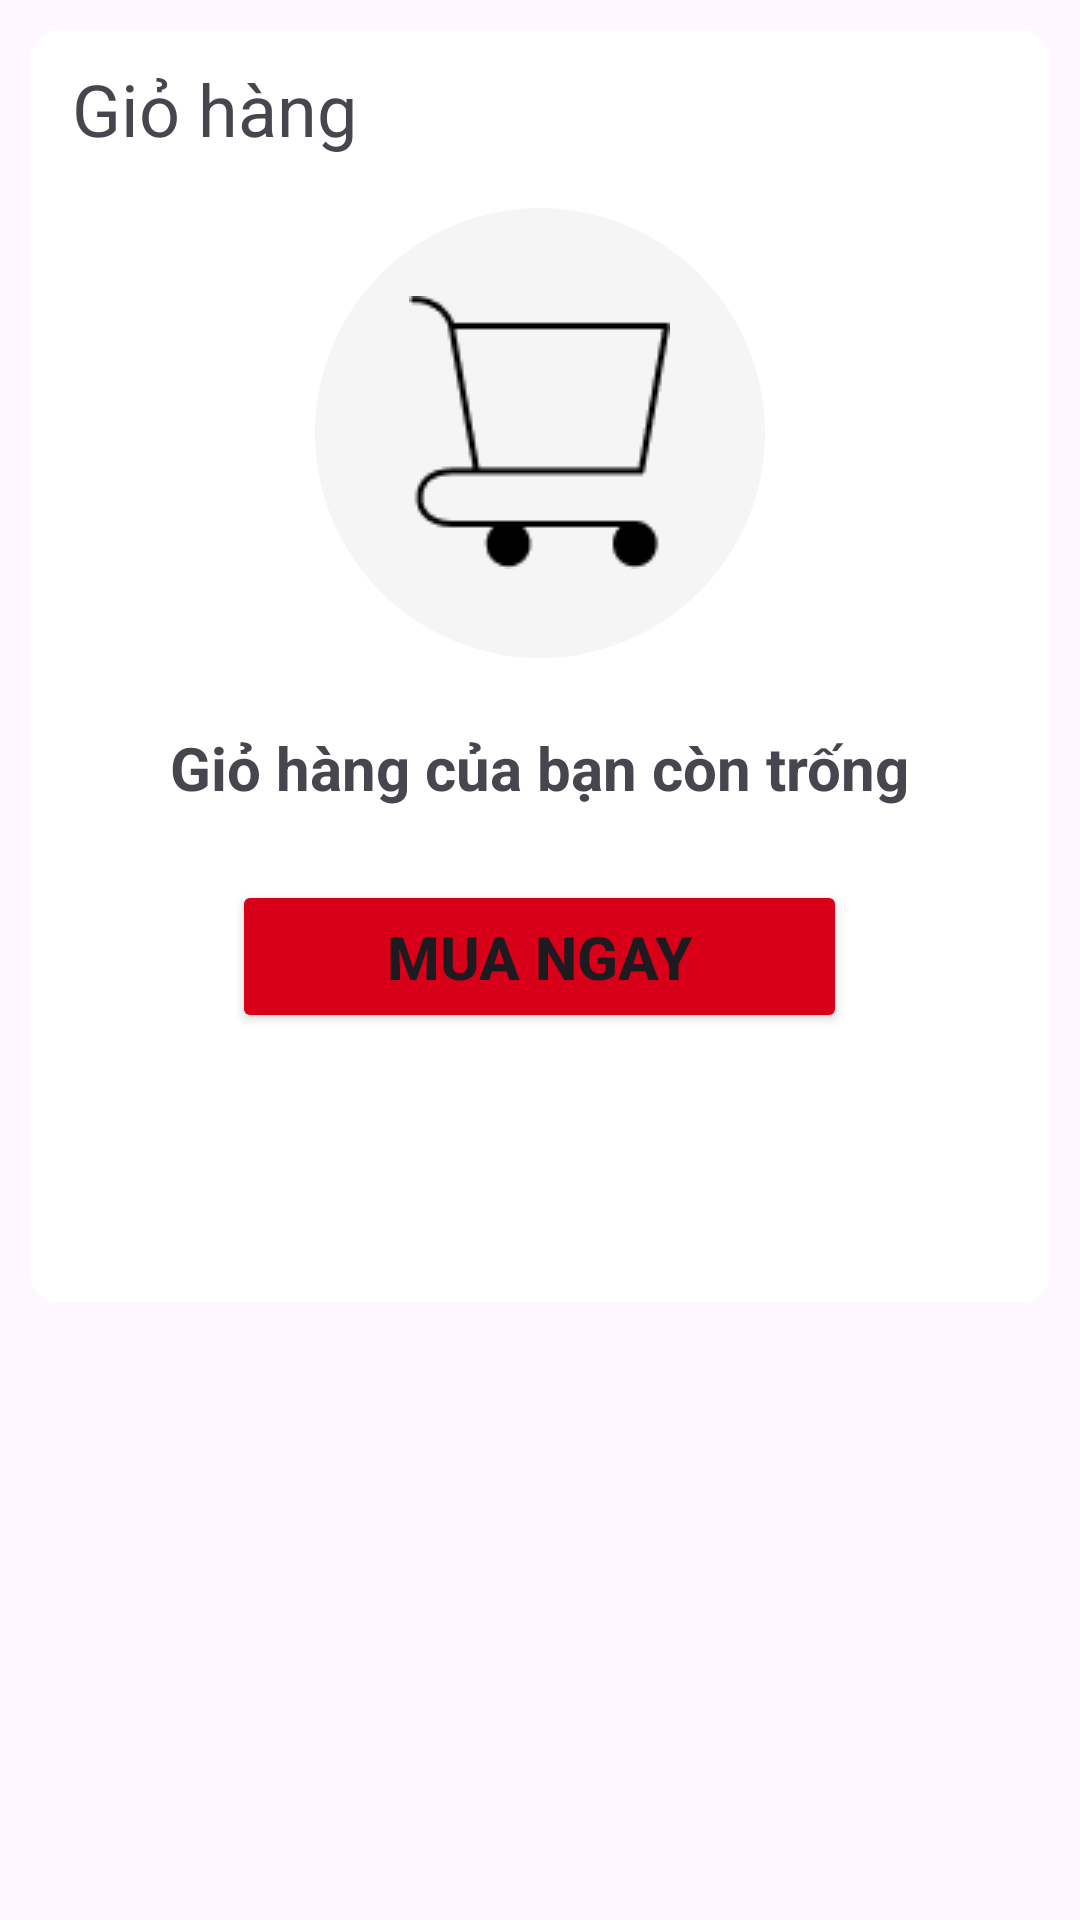

Screen size 1080×1920. Icon name, then its center in pixels as (x,y):
cart: (539,432)
